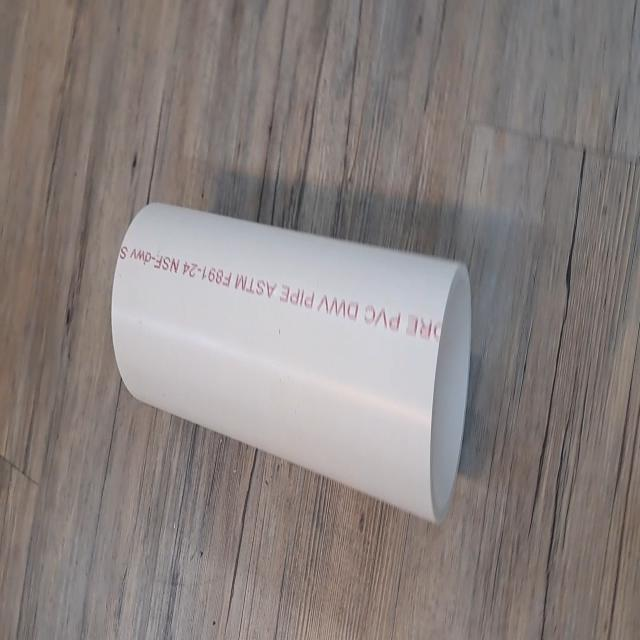CORAL: (106, 194, 478, 533)
